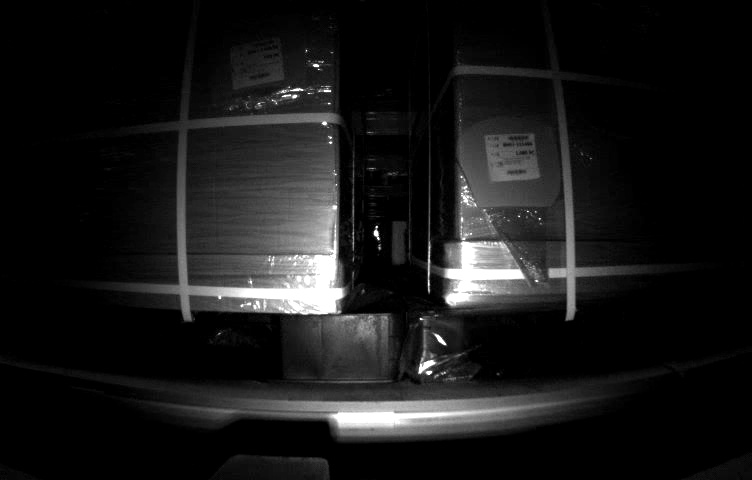True Barcode: (479, 131, 542, 179), (229, 42, 285, 81)
